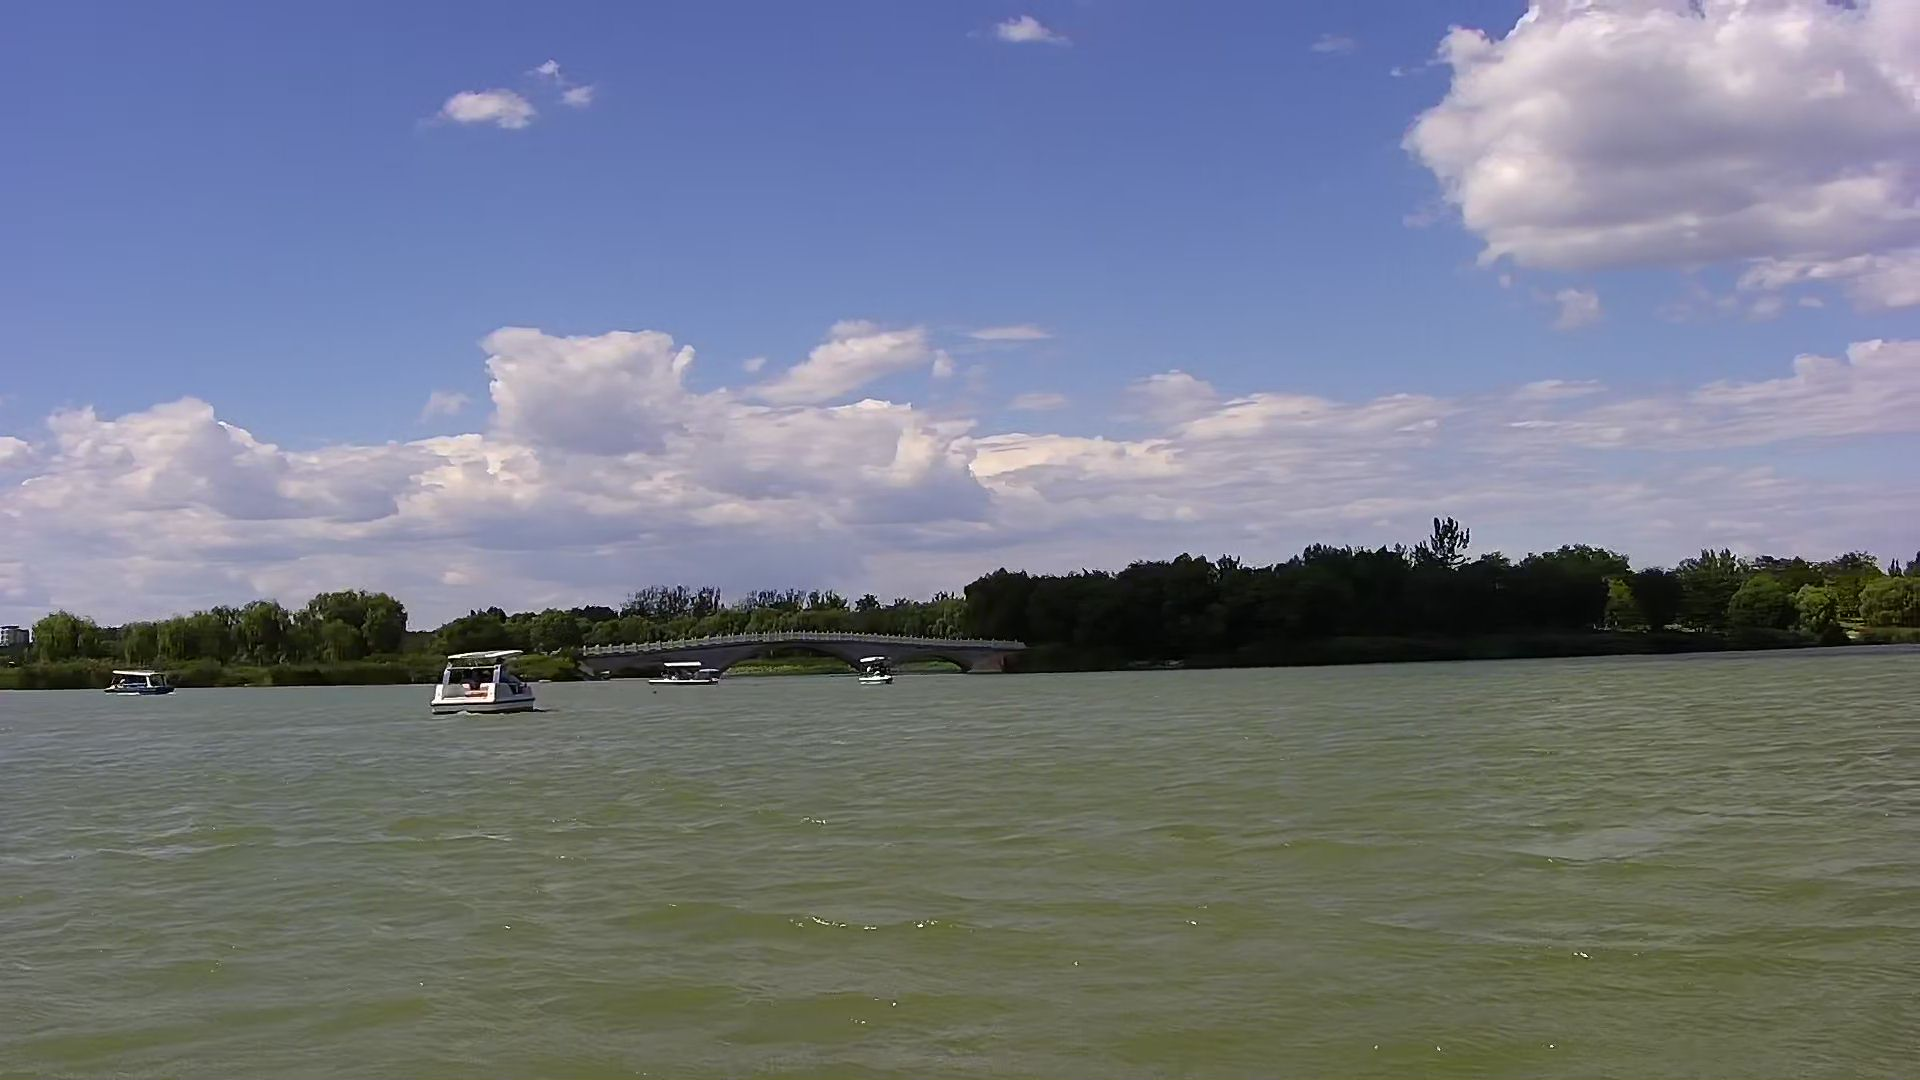boat: (425, 644, 542, 717), (645, 650, 731, 692), (105, 663, 175, 698), (851, 650, 897, 692)
bridge: (575, 618, 1036, 678)
